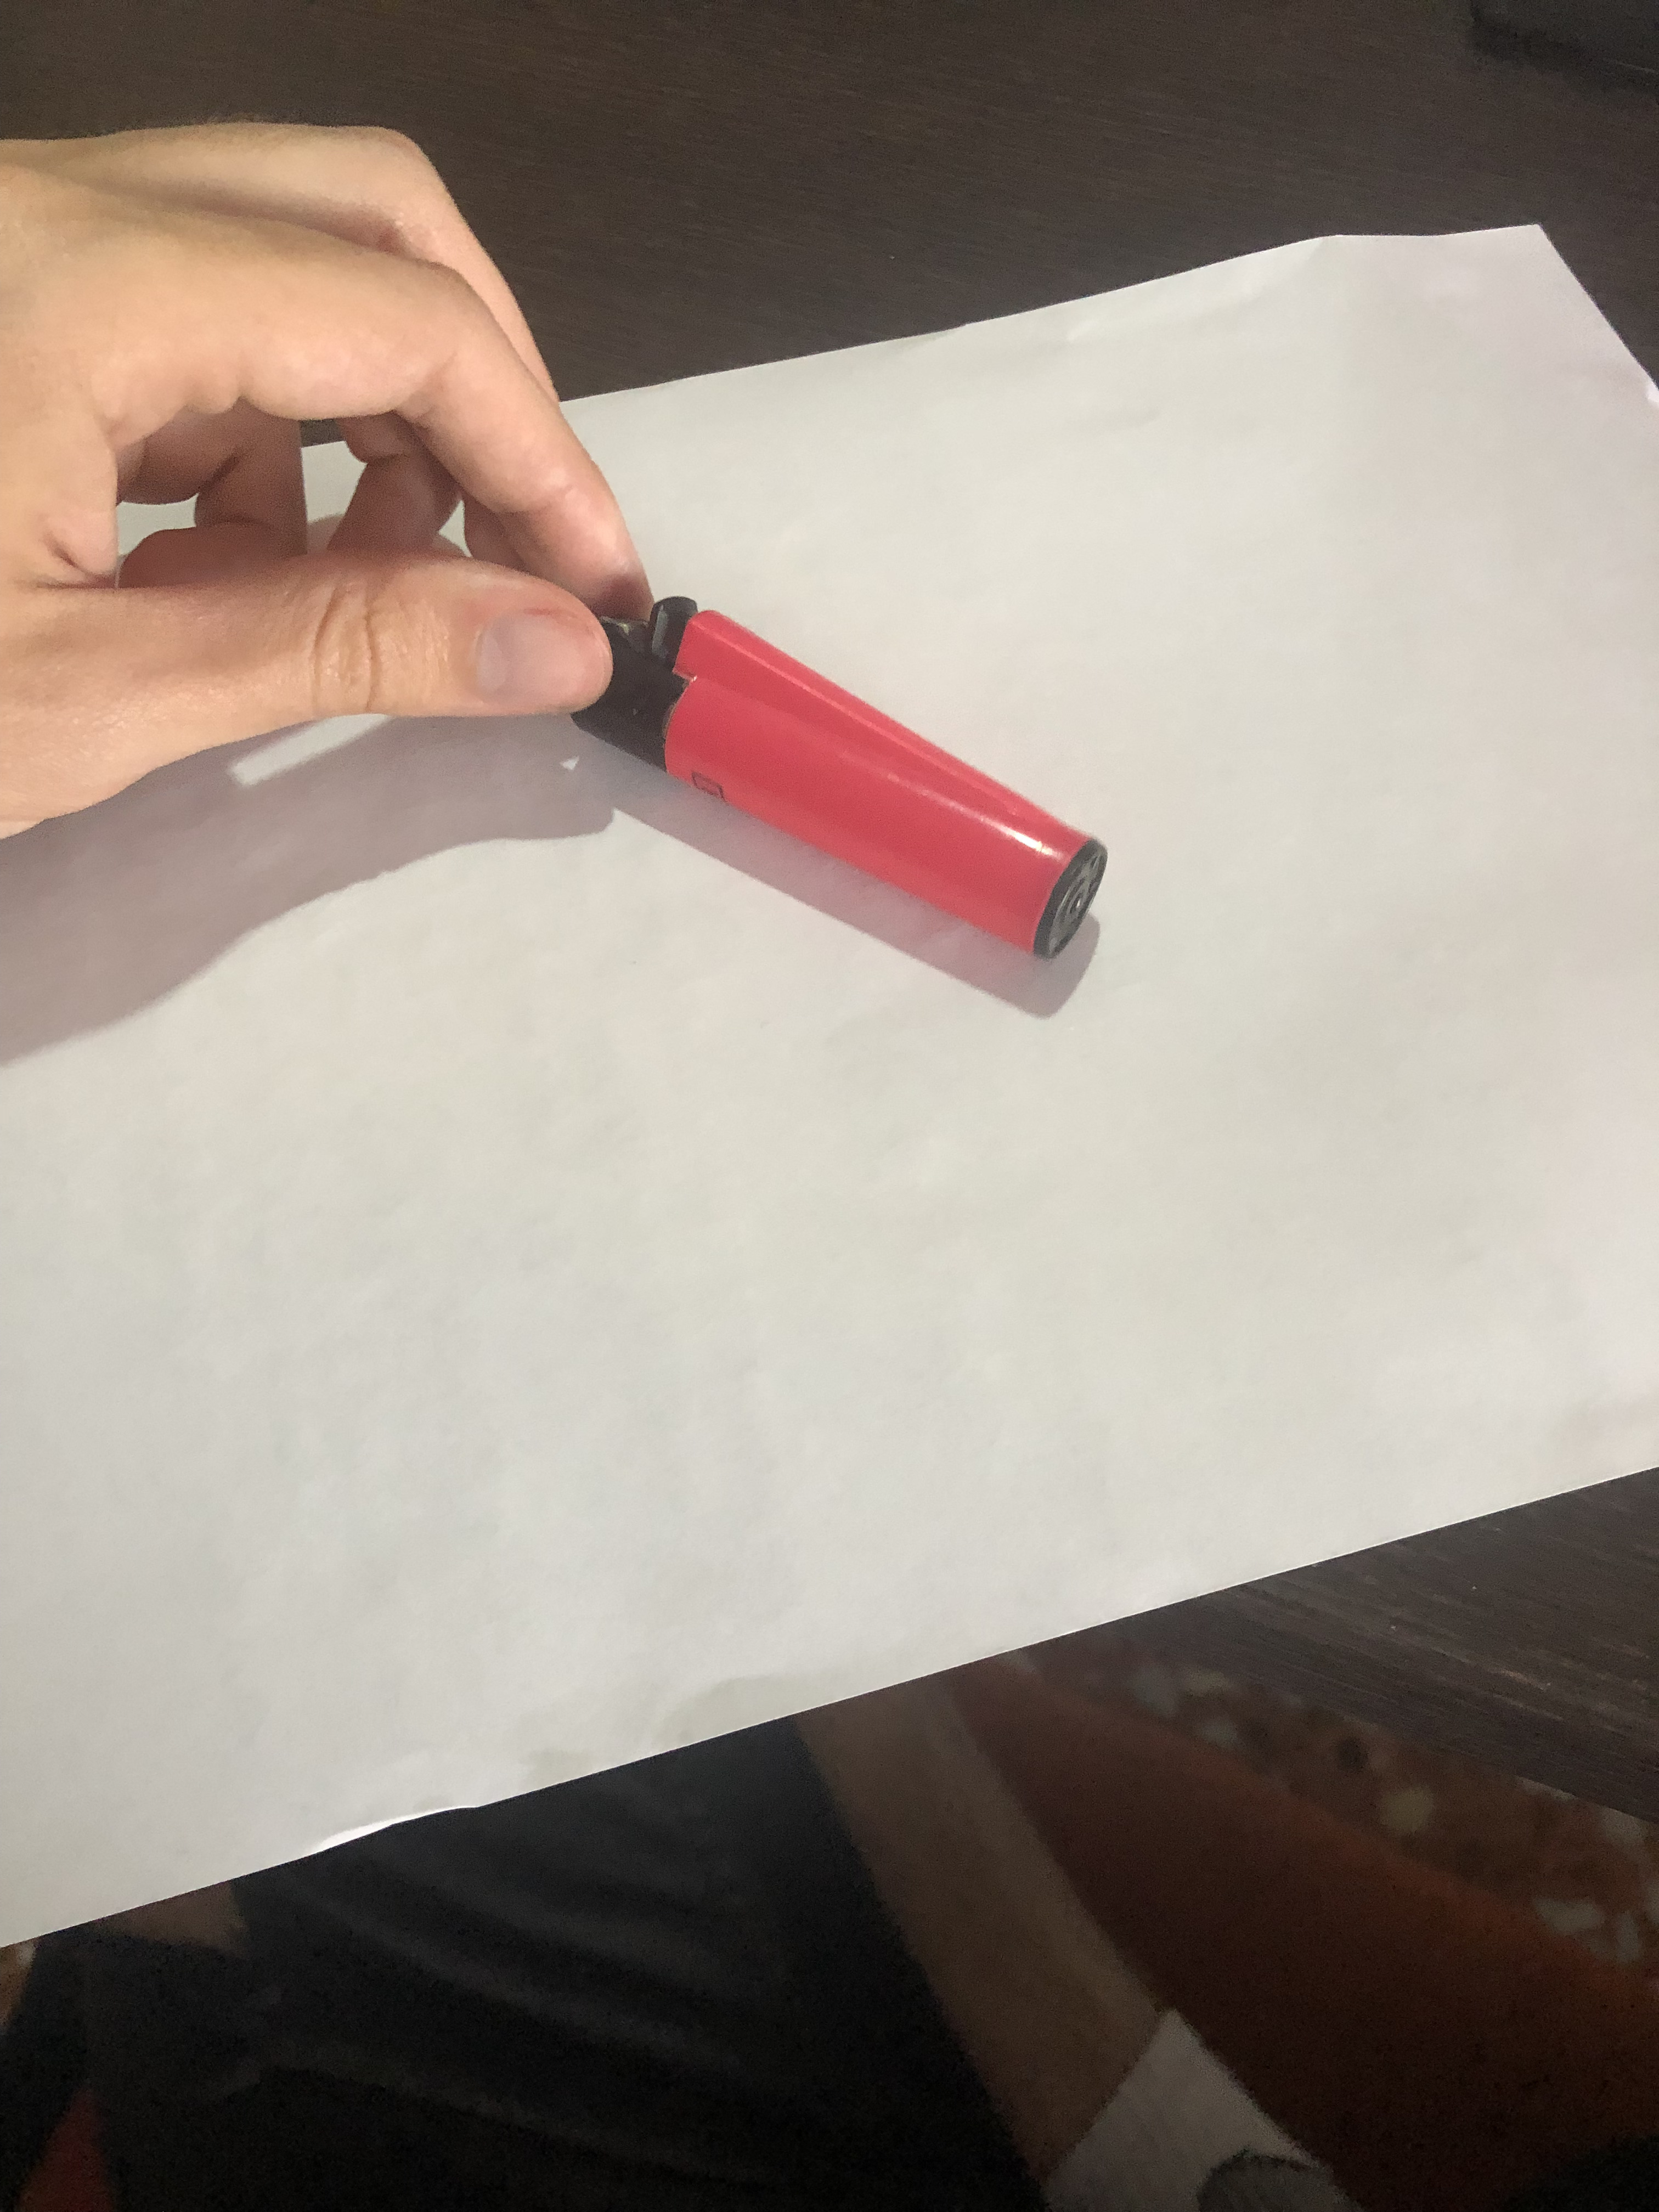Mechero: (556, 552, 1110, 1021)
